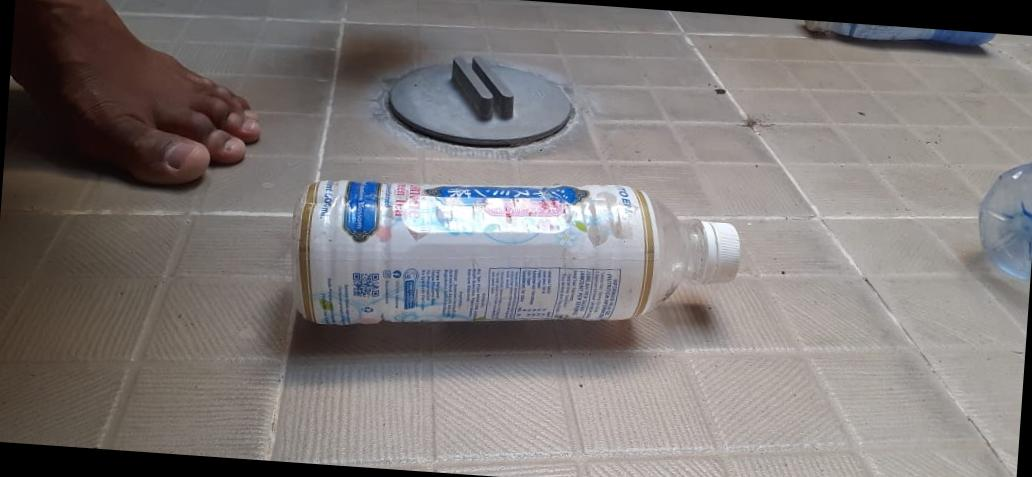Plastik: (285, 159, 743, 356), (975, 150, 1032, 280)
